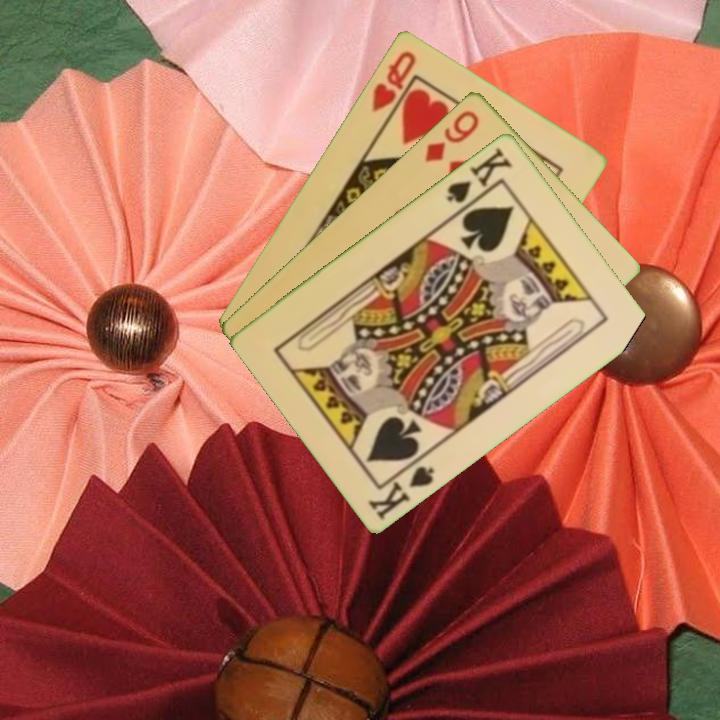9d: (420, 106, 482, 165)
Ks: (364, 451, 438, 522), (443, 143, 515, 214)
Qh: (368, 46, 419, 115)
